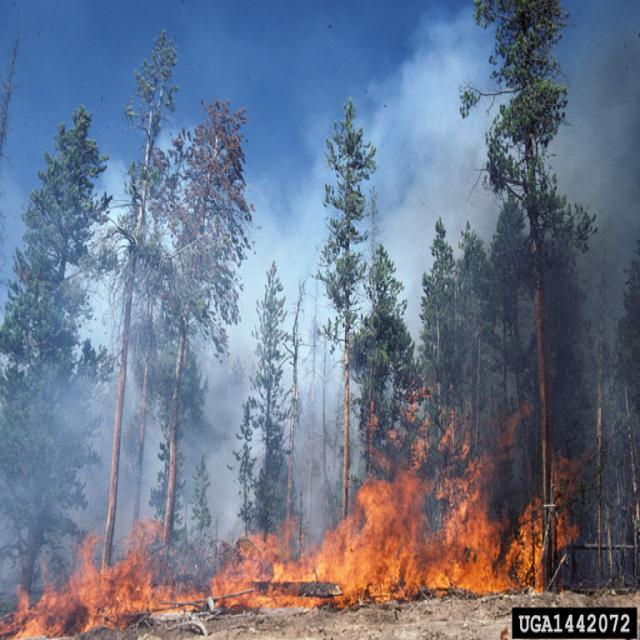Fire: (0, 384, 591, 640)
